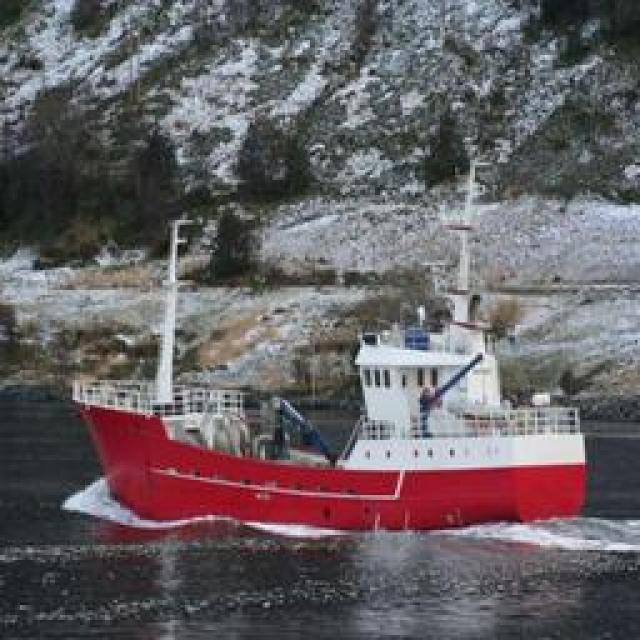CIV_Ship: (72, 320, 600, 540)
